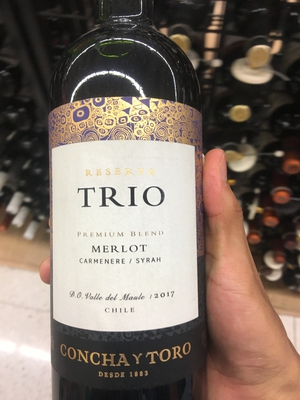trio merlot: (46, 29, 211, 400)
